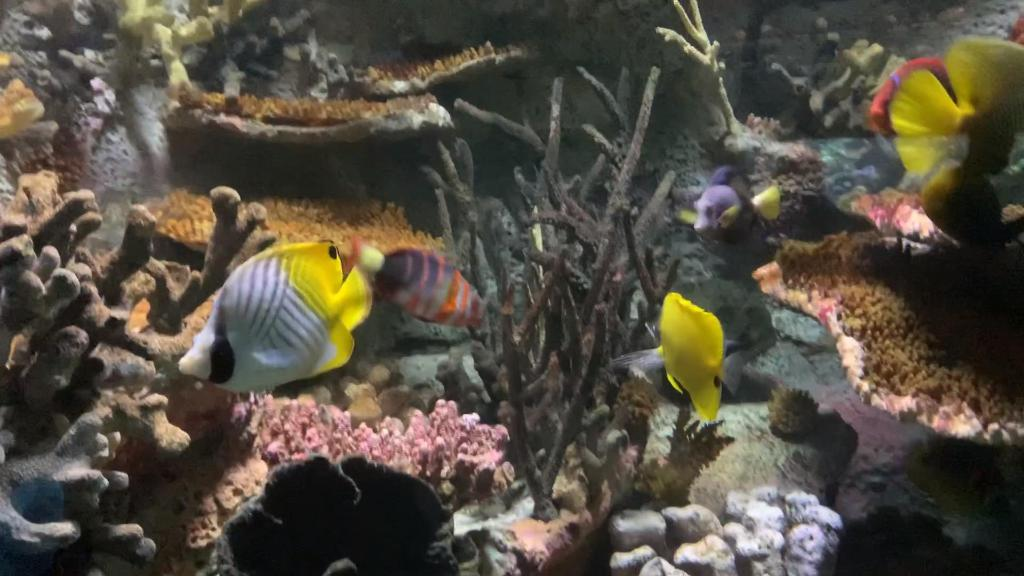fish: (176, 241, 372, 391), (895, 37, 1023, 175), (368, 246, 484, 328), (660, 291, 726, 425), (684, 165, 782, 241), (868, 56, 958, 136)
